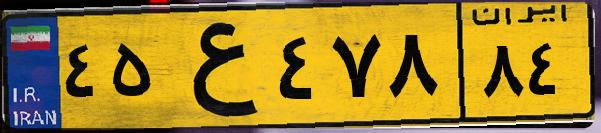4: (270, 28, 330, 110), (57, 26, 110, 100), (525, 38, 570, 115)
5: (110, 28, 158, 98)
7: (330, 28, 385, 110)
8: (385, 28, 445, 110), (475, 38, 525, 113)
ع: (158, 12, 270, 120)
